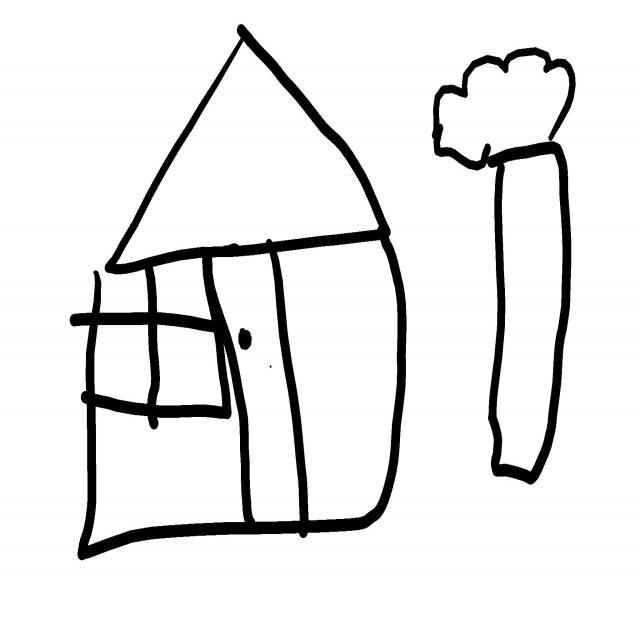door: (204, 244, 305, 526)
house: (71, 25, 407, 560)
roof: (109, 24, 387, 266)
wall: (79, 231, 398, 555)
window: (87, 255, 230, 414)
